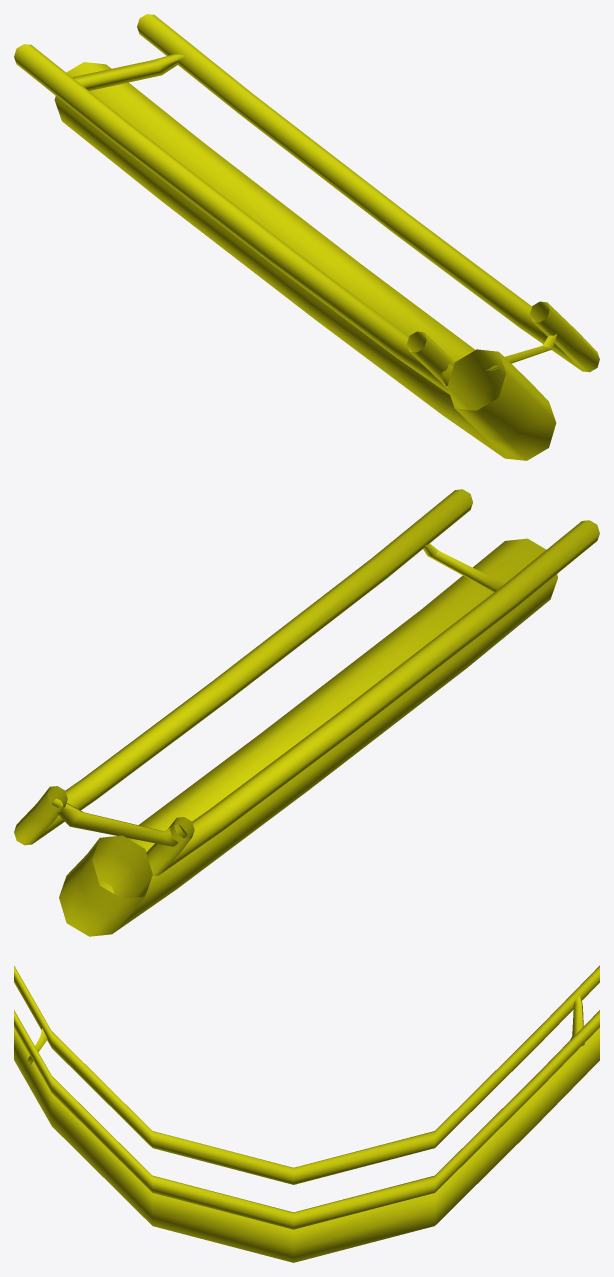
The picture shows the model from 3 angles, top to bottom: view 1: azimuth 30°, elevation 25°; view 2: azimuth 150°, elevation 25°; view 3: azimuth 270°, elevation 25°; orthographic projection. The views are drawn at different scales.
Visible parts, largest first — view 1: Mesh; view 2: Mesh; view 3: Mesh.
Boxes of the visible parts, <box> form: Mesh: <box>14,14,599,460</box>; Mesh: <box>14,489,599,936</box>; Mesh: <box>14,965,599,1262</box>.
Size of the model in its own units: 147 by 124 by 314.
